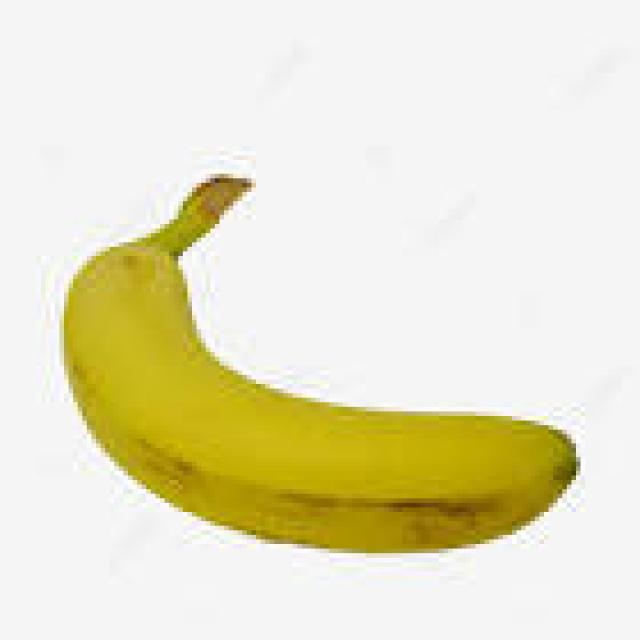Ripe: (53, 188, 585, 558)
